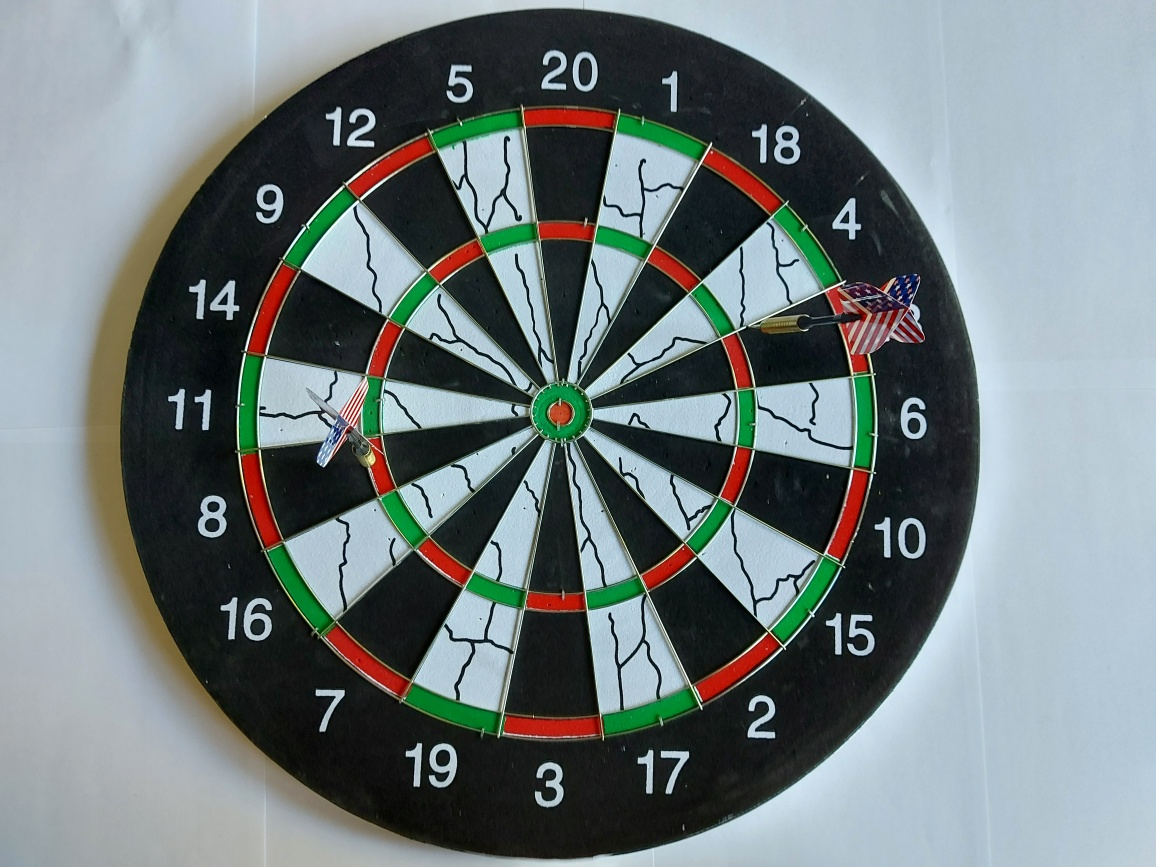Dart: (737, 259, 933, 368), (288, 372, 392, 483)
